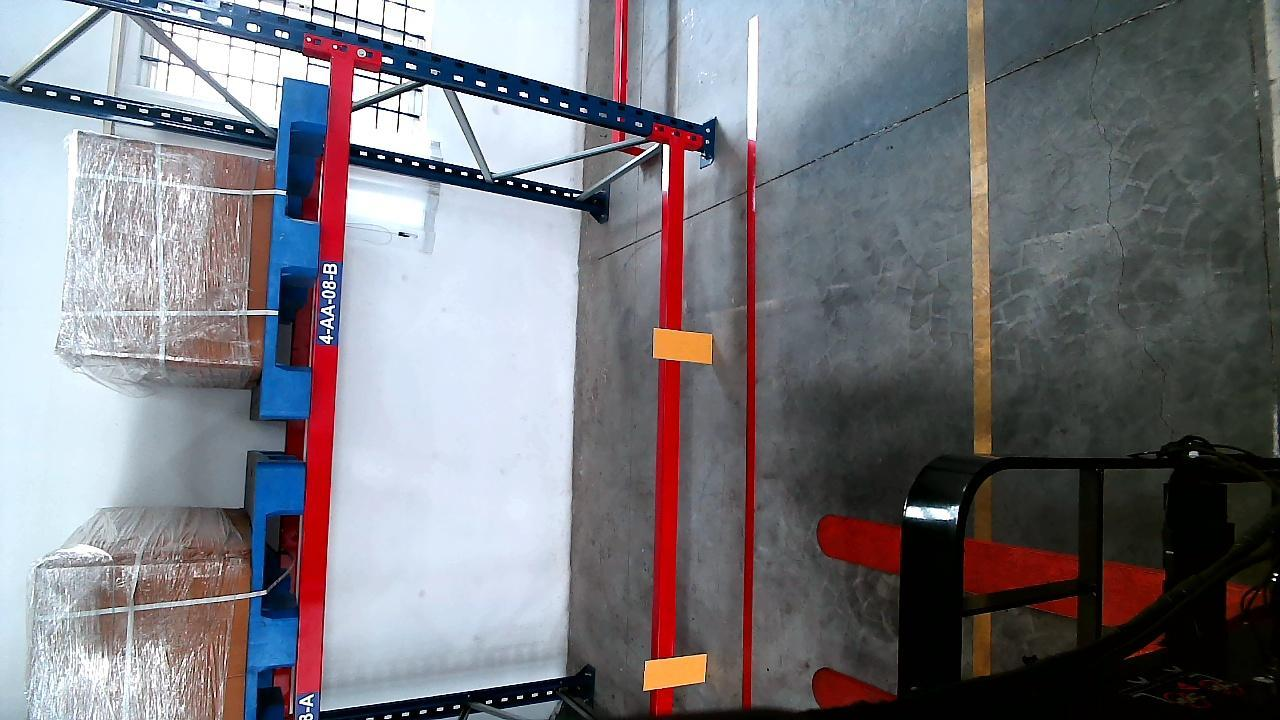red_line: (738, 136, 760, 705)
yellow_line: (969, 0, 995, 446)
